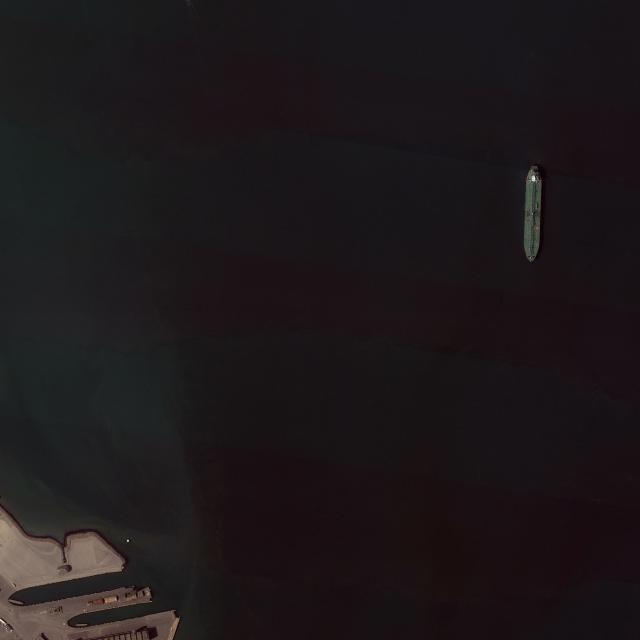ship: (523, 165, 542, 262)
